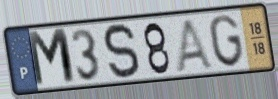3: (70, 27, 102, 82)
8: (142, 20, 171, 76)
A: (174, 16, 216, 72)
G: (207, 13, 246, 69)
M: (25, 26, 79, 90)
S: (102, 21, 142, 83)
